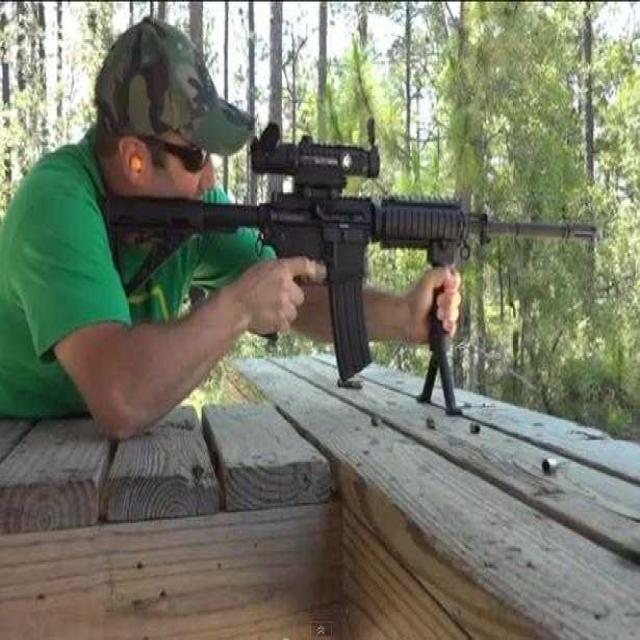heavyweapon: (72, 129, 621, 422)
